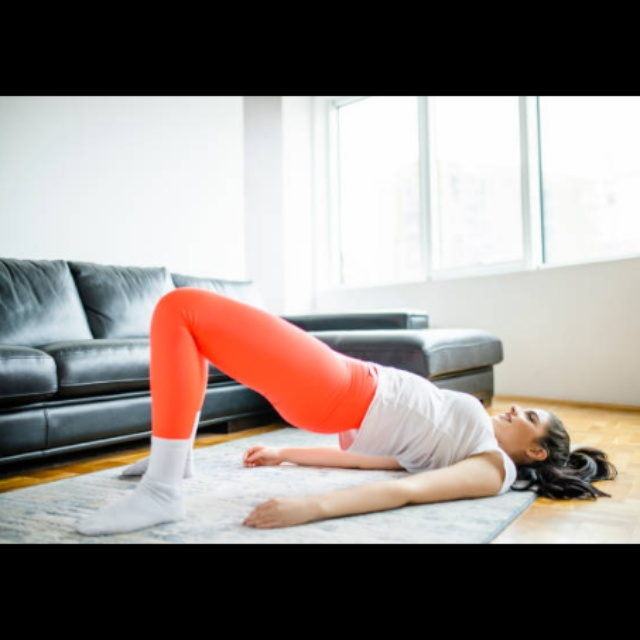Bridge_Pose: (62, 279, 626, 539)
